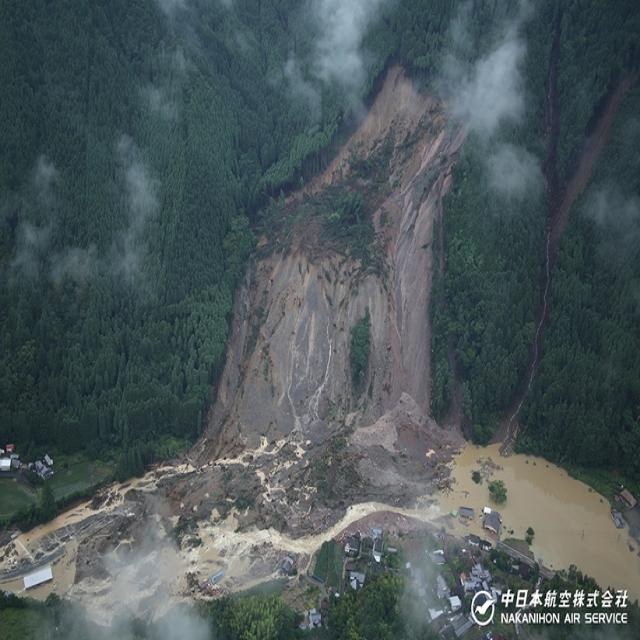Debris-flow: (190, 68, 464, 529)
